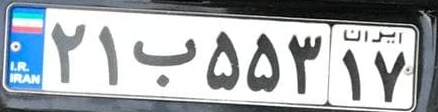character: (130, 24, 198, 92), (243, 26, 287, 98), (284, 26, 325, 100), (203, 20, 243, 95), (49, 14, 88, 87), (91, 14, 124, 90), (371, 45, 410, 107), (340, 42, 368, 106)
